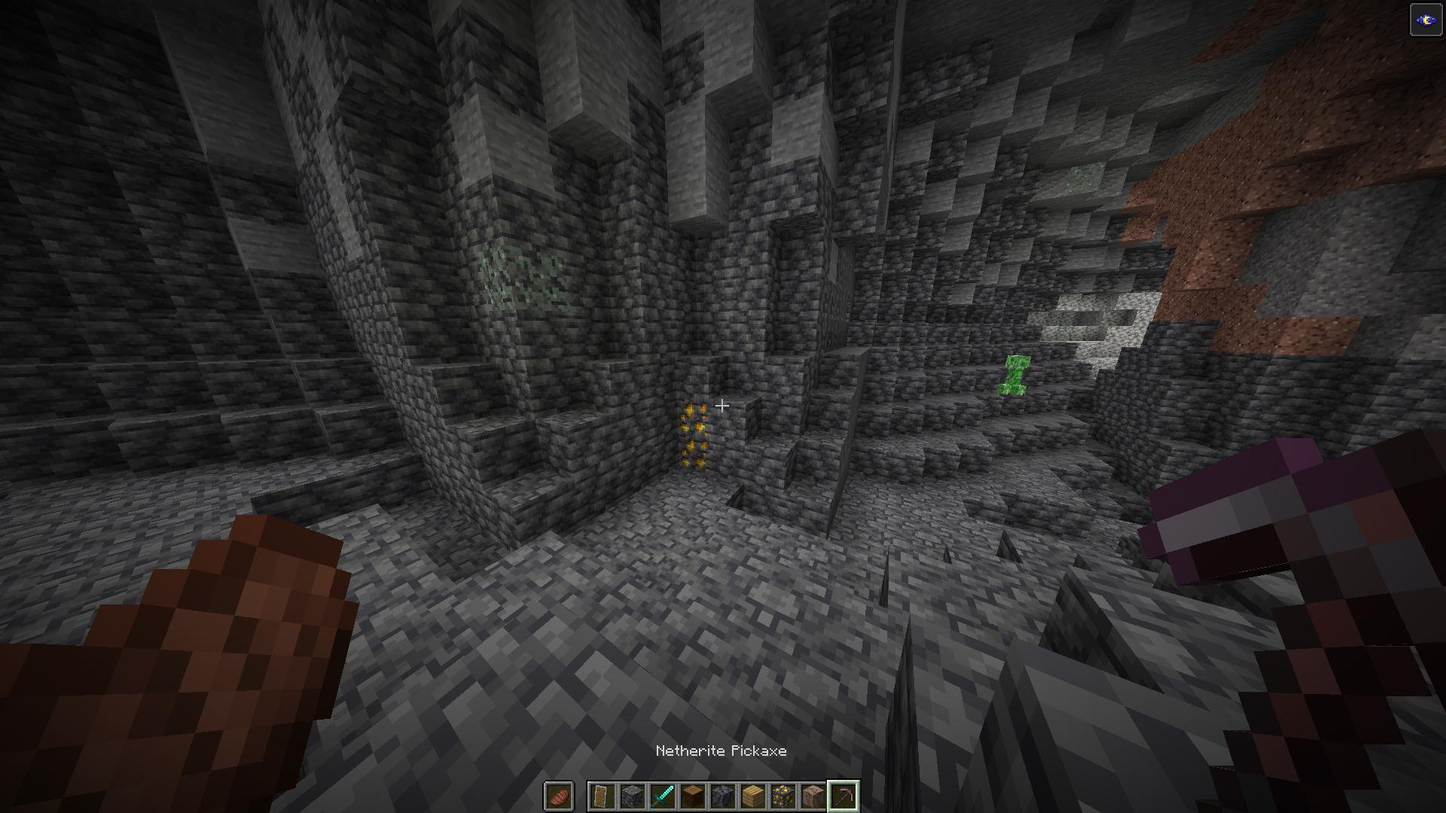gold ore: (677, 398, 708, 440), (678, 438, 710, 478)
